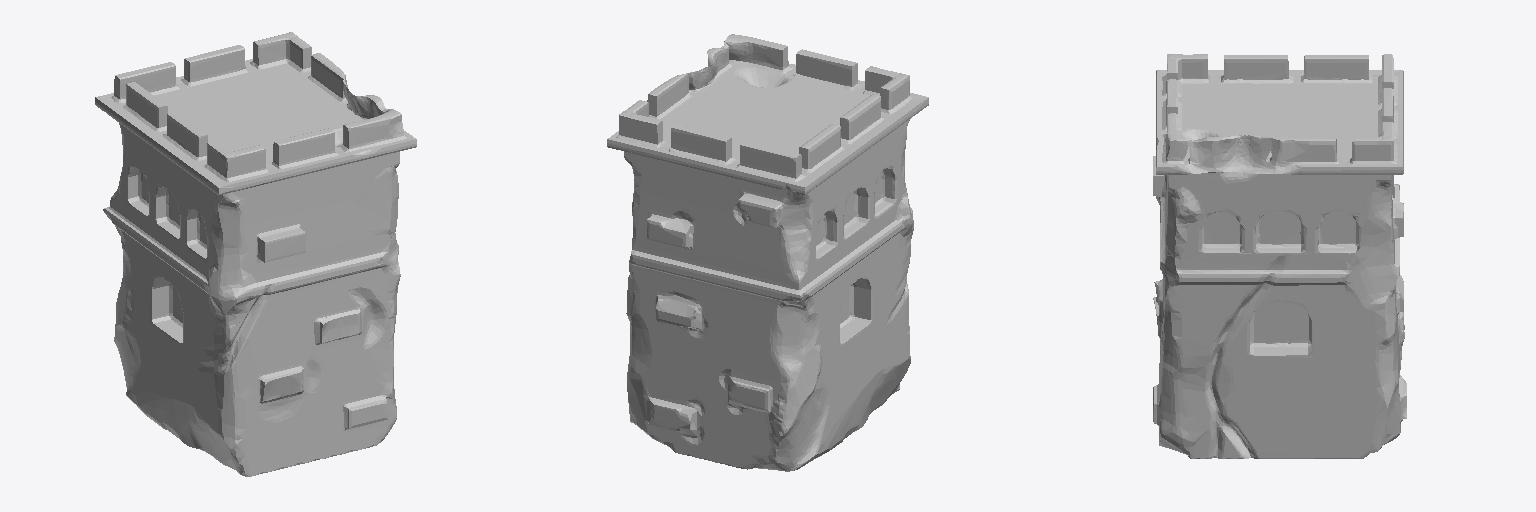
Rendered from greatwall2.OBJ.
3 renders of one model, left to right at view 1: azimuth 30°, elevation 25°; view 2: azimuth 150°, elevation 25°; view 3: azimuth 270°, elevation 25°, orthographic.
Parts seen in each view (by area): view 1: Group52278; view 2: Group52278; view 3: Group52278.
Part boxes in pixels (x1,y1,x2,y2): Group52278: (95,32,416,476); Group52278: (607,34,928,471); Group52278: (1153,54,1406,458).
Bounding box in the file's own units: 10.14 × 15.62 × 11.25.